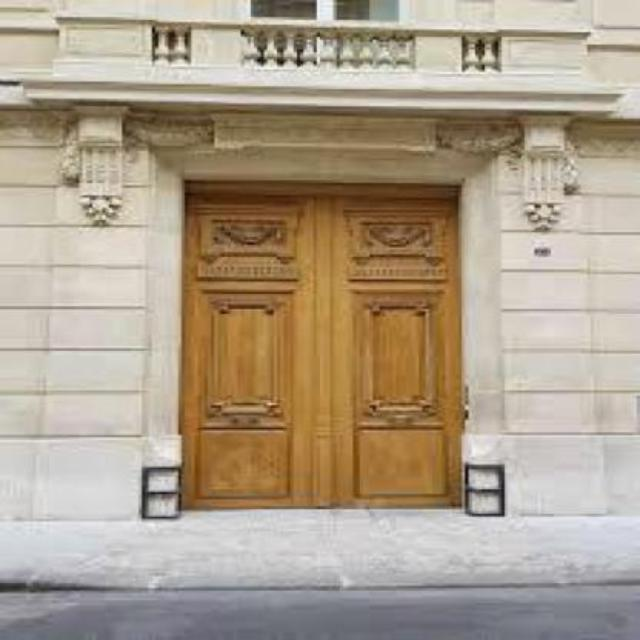door: (176, 182, 319, 510), (326, 181, 459, 508)
